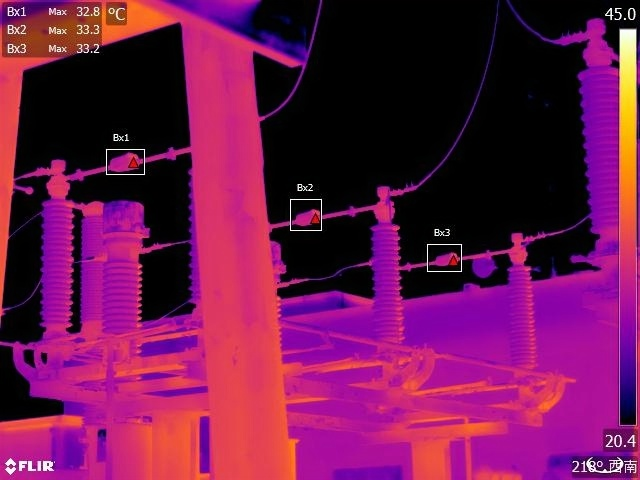circuit breaker: (76, 197, 110, 335)
current transformer: (98, 195, 151, 336)
post insulator: (576, 57, 618, 235), (34, 182, 79, 336), (367, 219, 413, 350), (502, 255, 542, 377)
switch: (48, 137, 194, 191), (269, 189, 402, 243), (406, 235, 525, 274)
